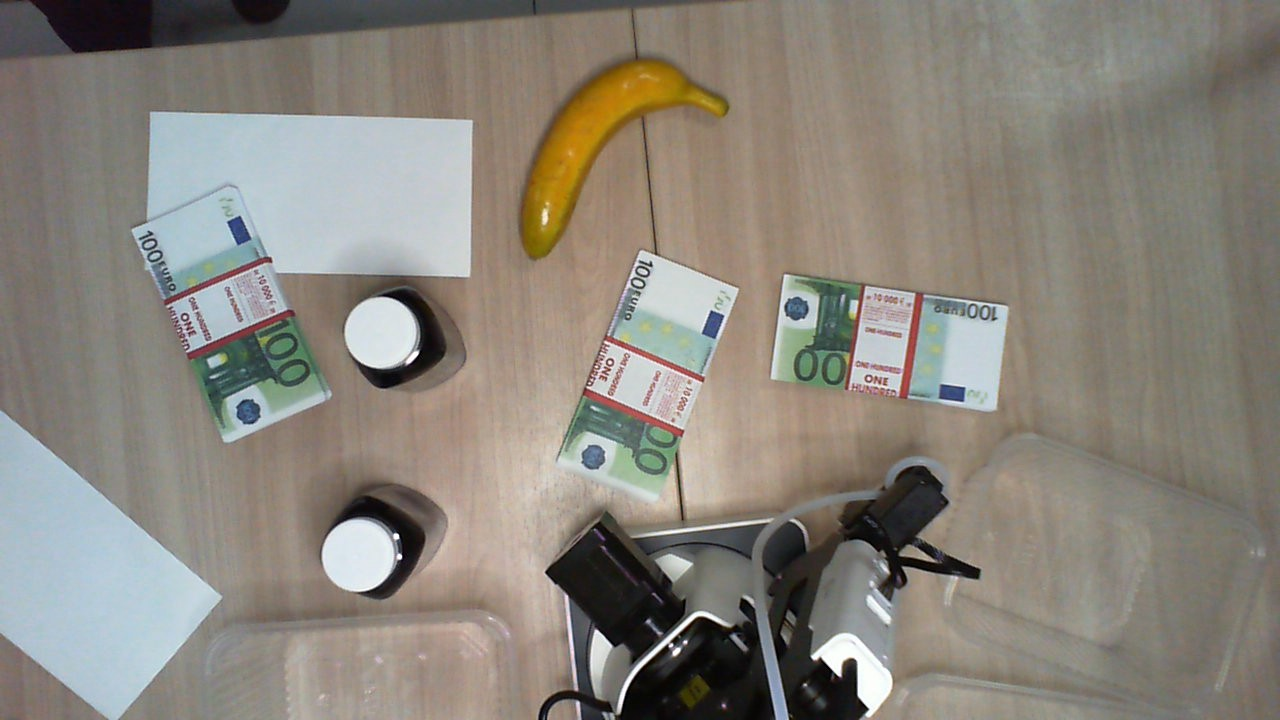banana: (514, 56, 730, 261)
bottle: (343, 287, 443, 389), (318, 505, 413, 599)
convert: (1, 408, 223, 719), (143, 110, 473, 276)
money: (133, 184, 333, 443), (557, 249, 738, 500), (768, 271, 1009, 412)
